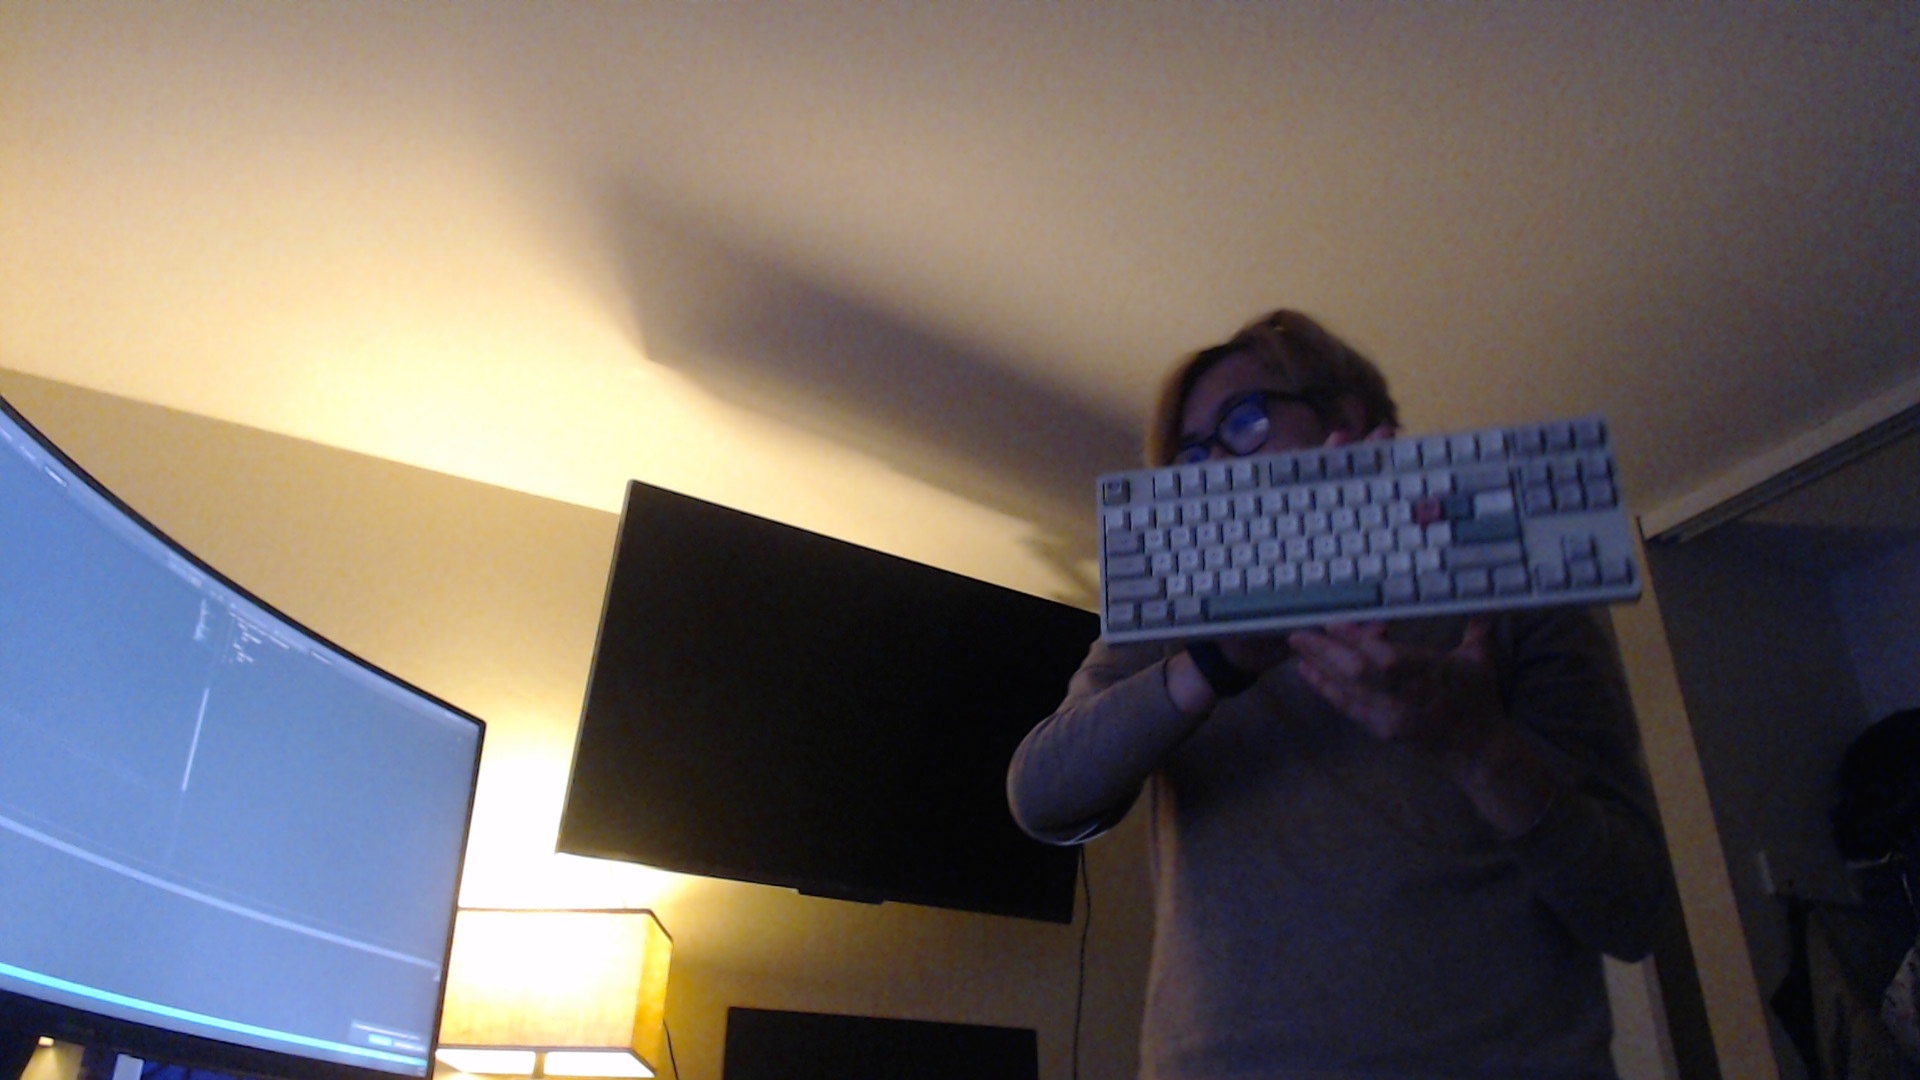keyboard: (1091, 415, 1644, 650)
